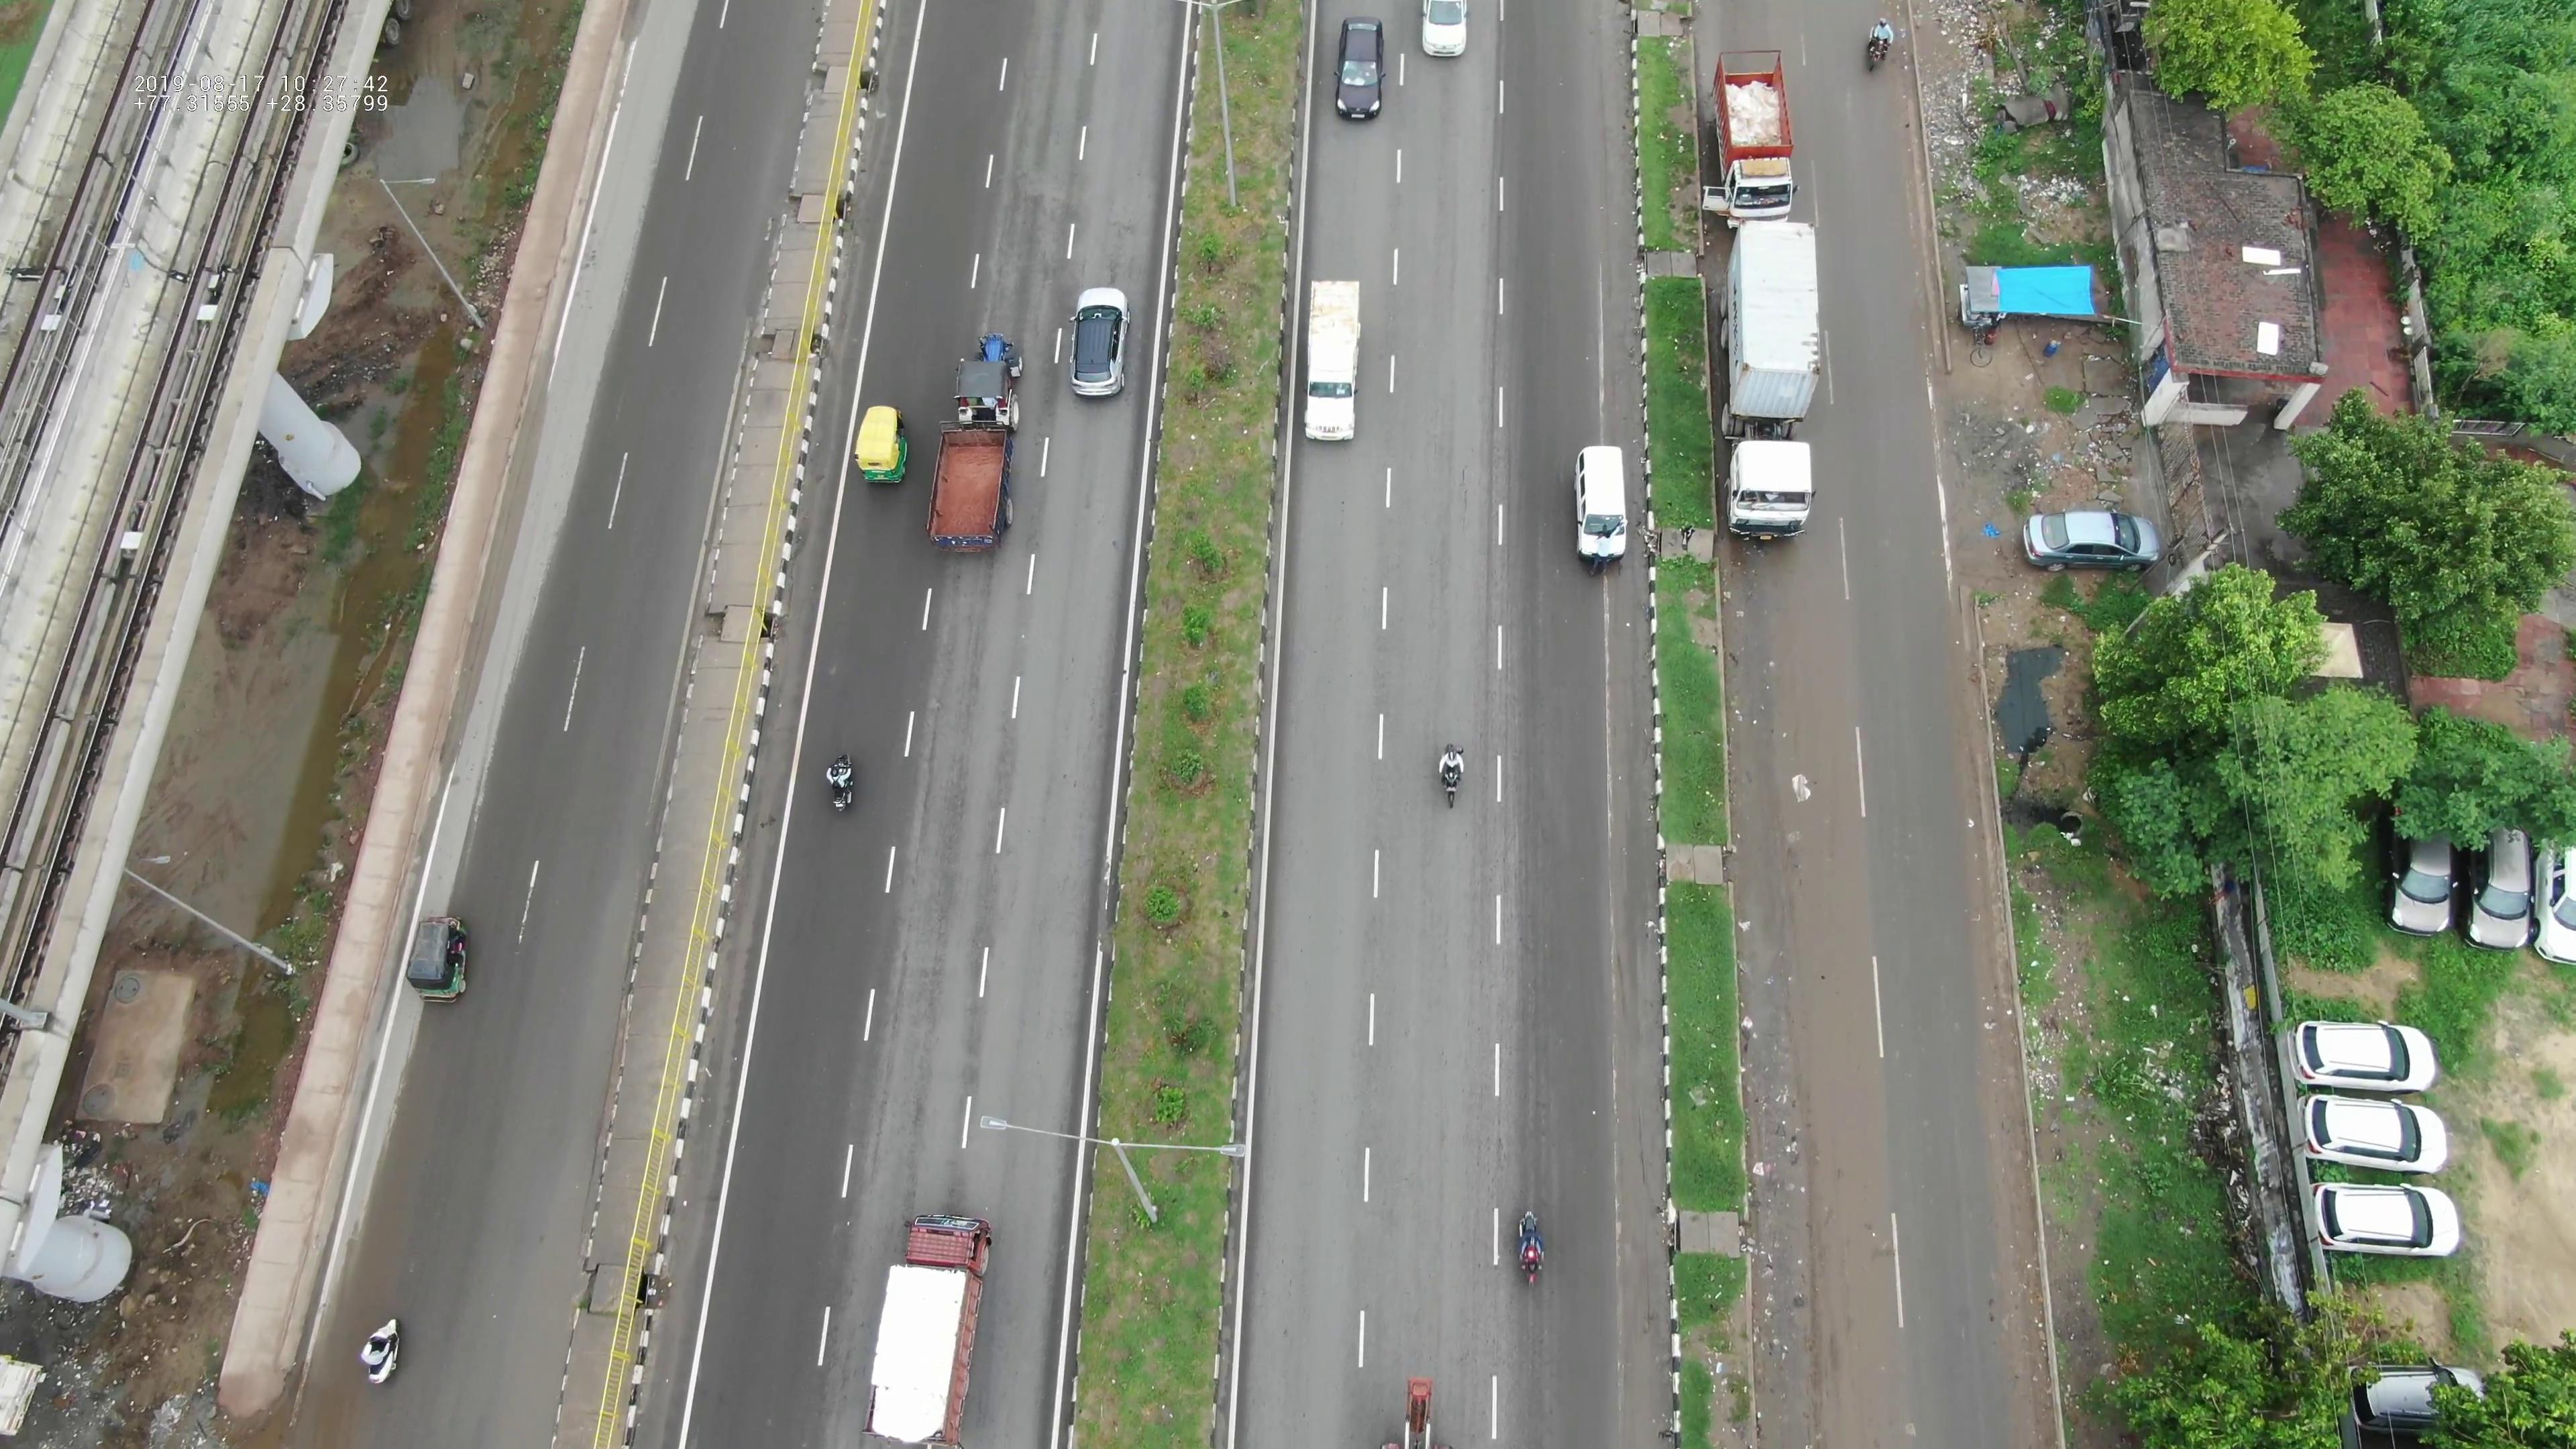Muddy_road: (1746, 954, 1891, 1435), (1702, 538, 1877, 899)
Road_side_garbage: (1918, 9, 2075, 188)
Waterlogging: (1983, 589, 2077, 830)
